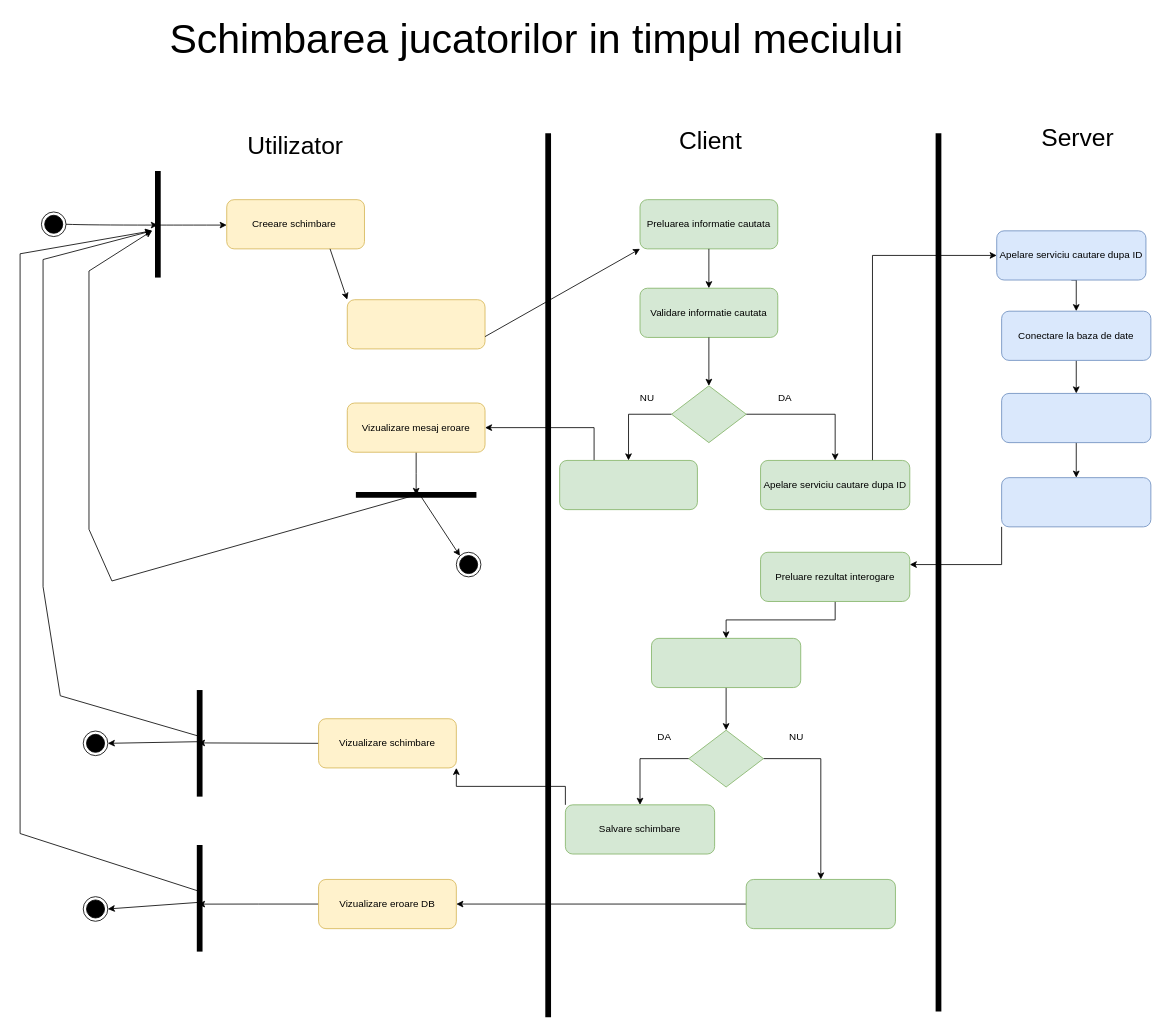
Image size: 1165x1035. Some labels were removed from this diagram. Each missing label, with the centre of its shape:
Afisare mesaj eroare: [628,485]
Afisare mesaj eroare DB: [820,904]
Analiza rezultat: [726,663]
Deconectarea de la baza de date: [1076,502]
Executarea interogarii si creearea si salvarea unei schimbari: [1076,418]
Generare cautare meci si playeri pentru schimbare Generare schimbare: [415,324]
